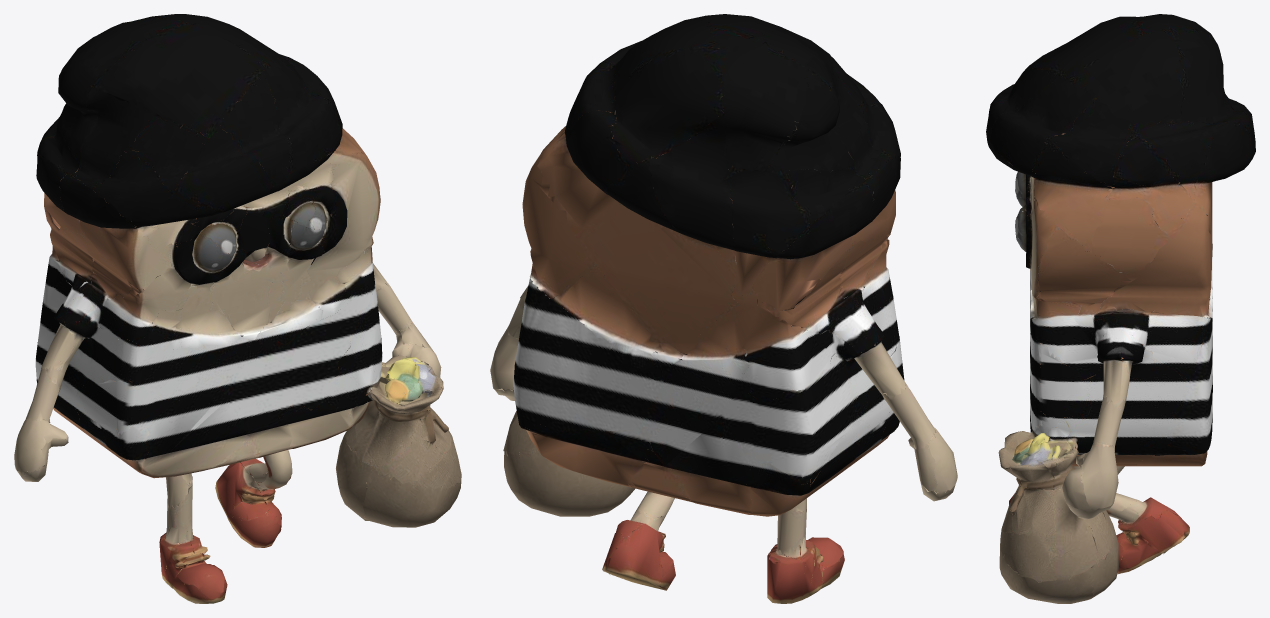
File: crumb-burglar.glb
The picture shows the model from 3 angles, left to right: view 1: azimuth 30°, elevation 25°; view 2: azimuth 150°, elevation 25°; view 3: azimuth 270°, elevation 25°; orthographic projection. The views are drawn at different scales.
Parts seen in each view (by area): view 1: Mesh_0; view 2: Mesh_0; view 3: Mesh_0.
Boxes of the visible parts, x1,y1,x2,y2 form: Mesh_0: [14, 14, 461, 603]; Mesh_0: [490, 14, 957, 603]; Mesh_0: [986, 14, 1255, 603].
Size of the model in its own units: 1.55 by 1.9 by 0.916.
Materials: 1 (1 with a texture image).
